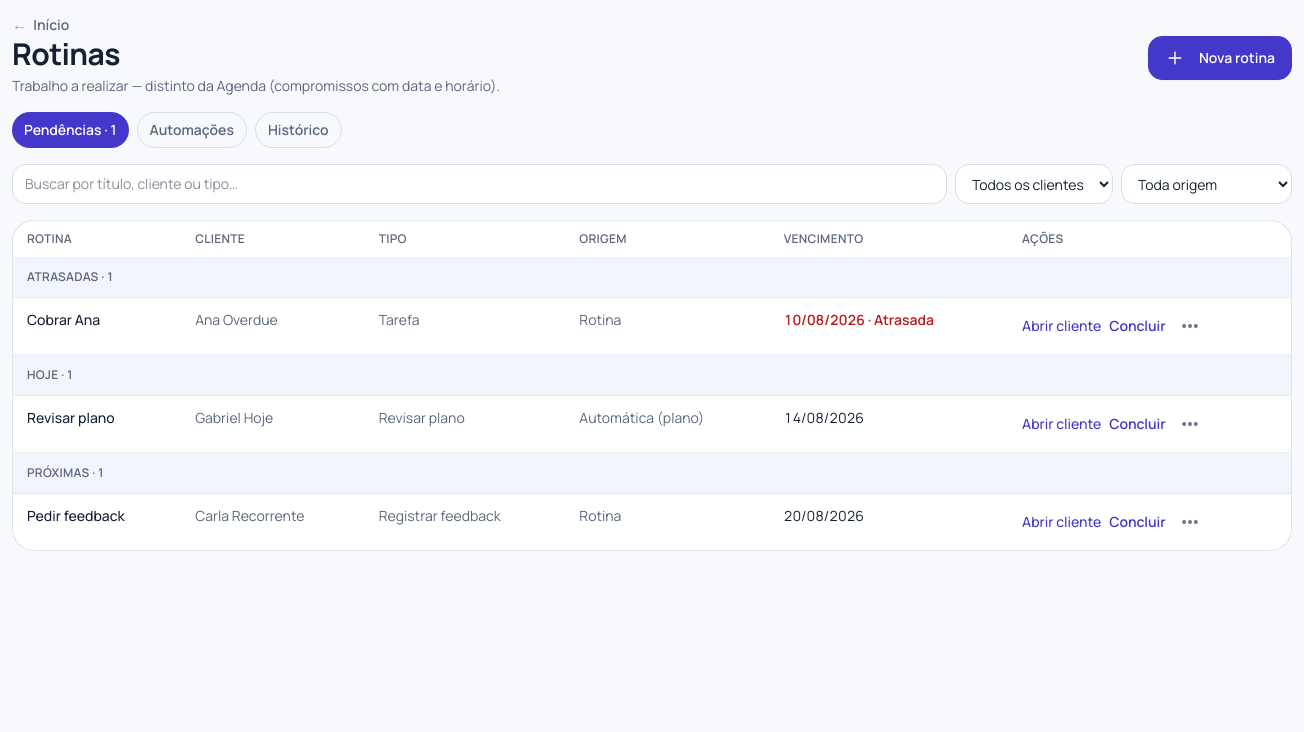
Scenario: RoutinesPageInner desktop — central de trabalho densa › Automações is its own area — Suas rotinas and sugestões, no occurrence table there
Expected: the table is shown, [13, 221, 1291, 550]
Click the tab "Automações": (192,130) [136, 112, 247, 148]
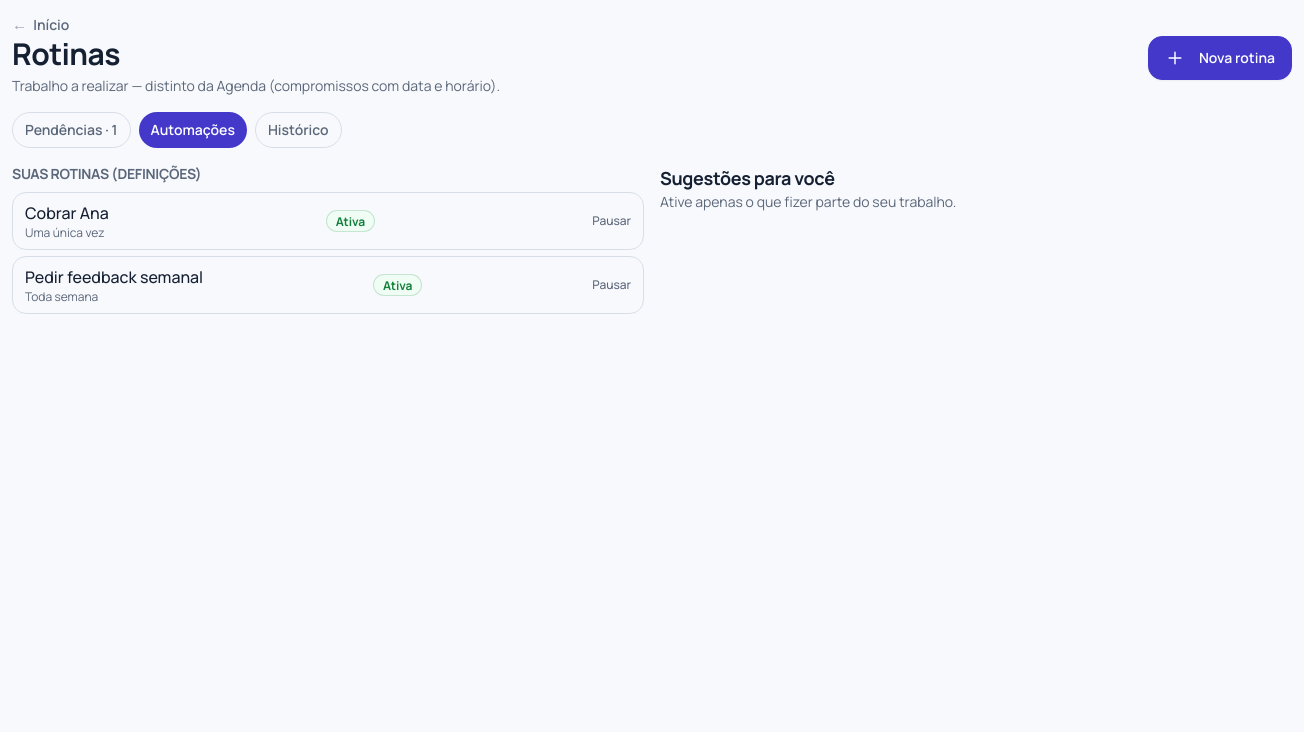
Expected: the text "Cobrar Ana" is shown, [25, 201, 109, 225]
Now the table is gone
Now the heading "Suas rotinas (definições)" is shown, box [12, 164, 201, 183]
